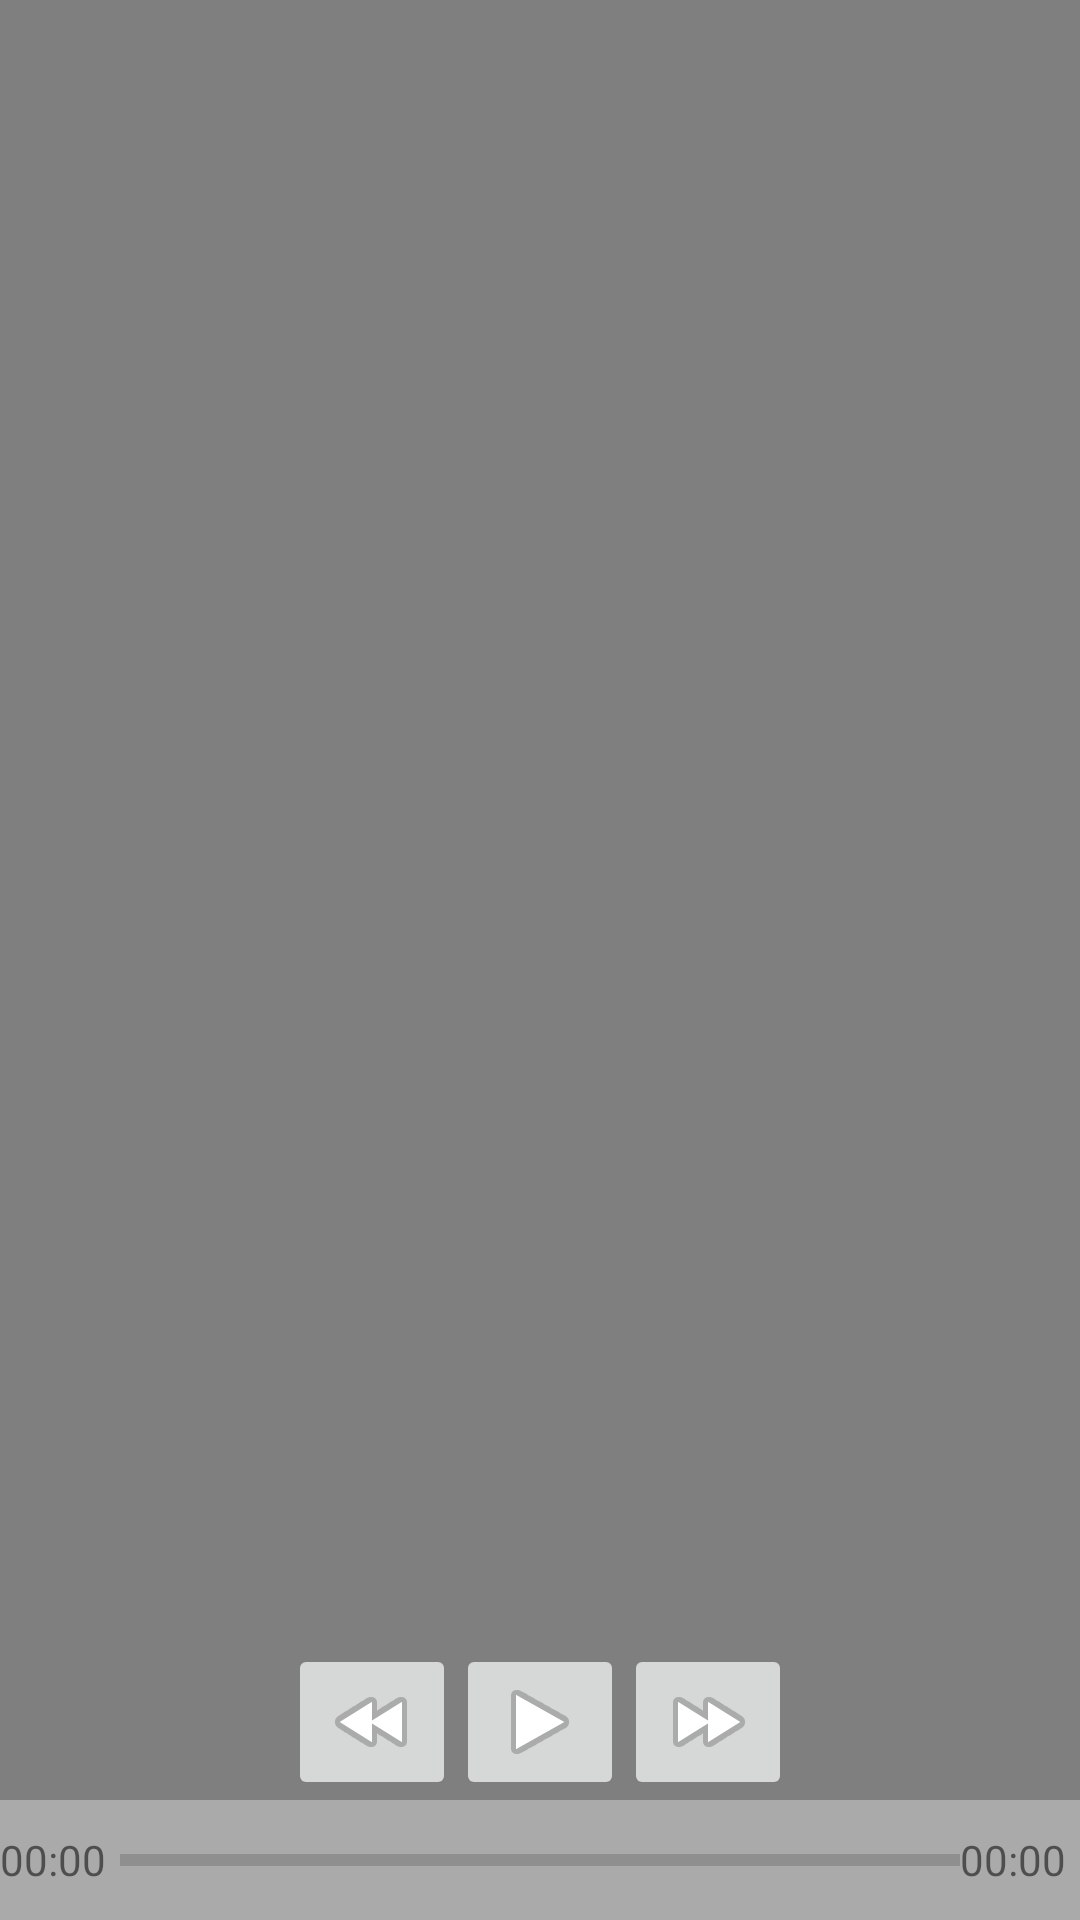

Icons on this 1080 × 1920 Android screen, each with its box as (x1, y1, x2, y2):
play pause: (468, 1662, 612, 1782)
rew: (300, 1662, 444, 1782)
